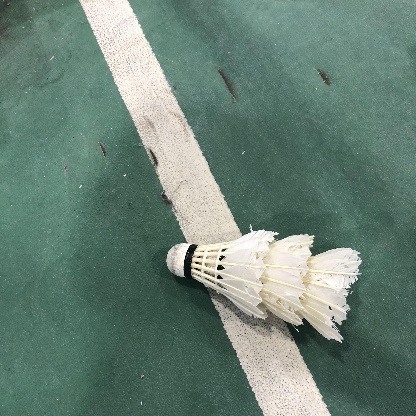ball_single: (167, 229, 362, 343)
